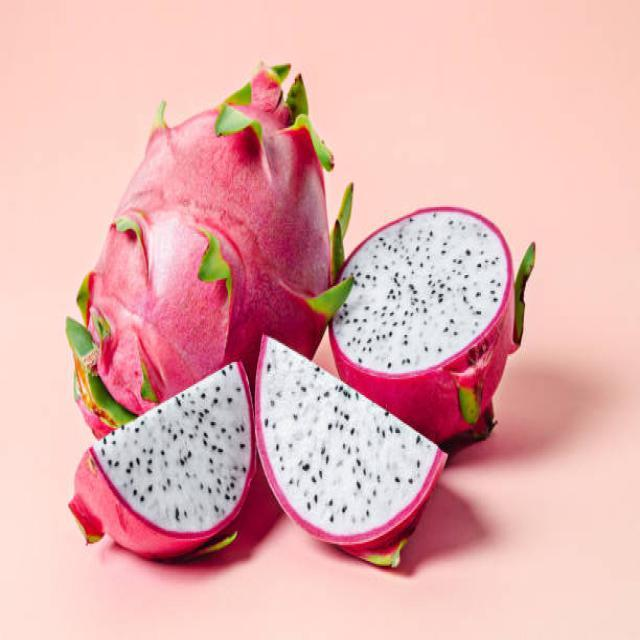dragon-fruit: (74, 102, 334, 442), (327, 204, 518, 445), (252, 333, 449, 550), (72, 360, 258, 562)
